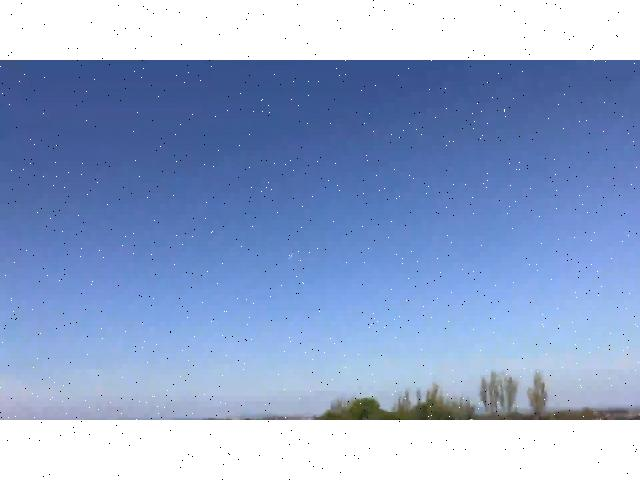Anti-Drone: (274, 244, 306, 271)
